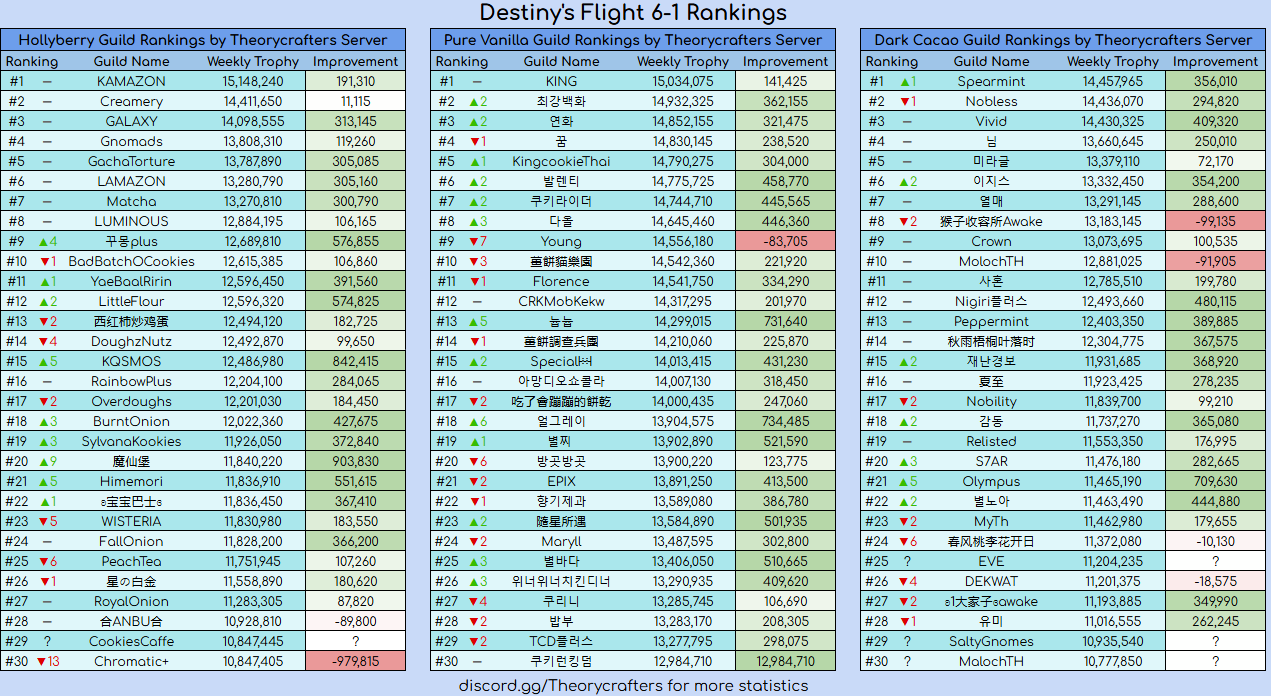

The dashboard page shown, as its layout file describes it:
{"tool":"tableau","page":{"name":"Leaderboard","canvas":[1024,1400],"ordinal":1},"visuals":[{"type":"worksheet","title":"Title table","mark":"Shape","rows":["Calculation_898186666553450504"],"cols":["Calculation_898186666553450504"],"box":[4,4,1016,59]},{"type":"filter","title":"Enhance table body","param":"[federated.18al28b04he33914fxq6d1x1h5y0].[none:Round:nk]","box":[762,11.2,254,50]},{"type":"worksheet","title":"Enhance table header","mark":"Shape","rows":["Calculation_678636192710987784","Calculation_678636192725467159"],"cols":["Calculation_898186666553450504","Calculation_898186666553450504","Calculation_898186666553450504","Calculation_898186666553450504"],"box":[4,63,1016,54]},{"type":"worksheet","title":"Enhance table body","mark":"Shape","rows":["Round","SeasonRank","DiffSeasonRank","GuildNameExtra"],"cols":["Calculation_898186666553450504","Calculation_898186666553450504","Improvement"],"box":[4,117,1016,1279]}]}

Visuals, with their boxes on the page's 1024x1400 design canvas (x1, y1, x2, y2). These are canvas units, not pixel positions in the 1271x696 screenshot, which may show the page scaled, cropped or inside an application window:
"Title table" worksheet (Shape marks): <bbox>4, 4, 1020, 63</bbox>
"Enhance table body" filter: <bbox>762, 11, 1016, 61</bbox>
"Enhance table header" worksheet (Shape marks): <bbox>4, 63, 1020, 117</bbox>
"Enhance table body" worksheet (Shape marks): <bbox>4, 117, 1020, 1396</bbox>
